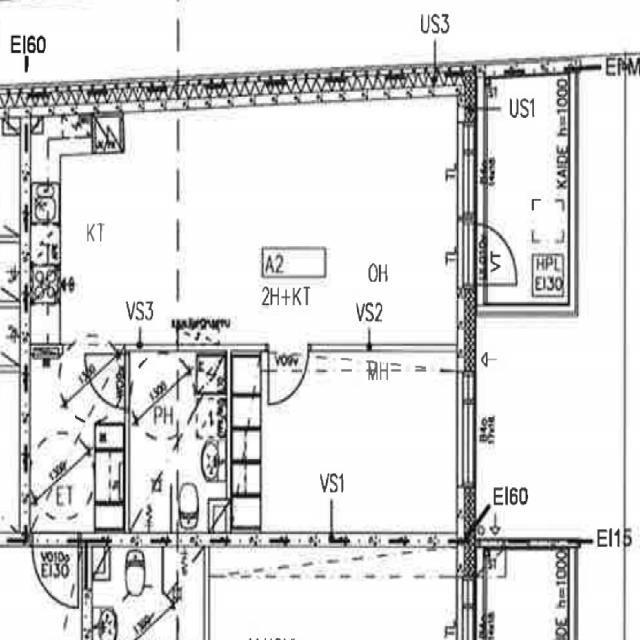door: (456, 223, 520, 284), (32, 532, 78, 610), (268, 345, 308, 405), (85, 354, 129, 408)
